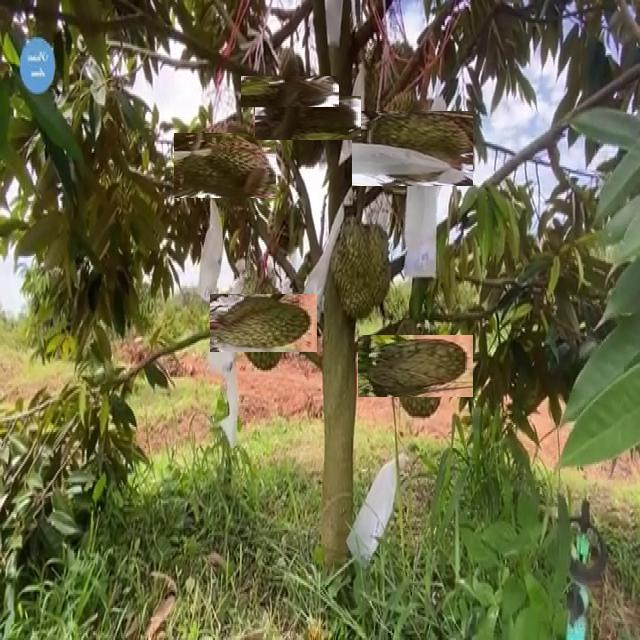durian: (363, 99, 461, 198), (372, 322, 460, 410), (327, 217, 394, 328), (183, 124, 267, 208), (222, 282, 306, 364), (270, 81, 346, 156), (257, 59, 323, 123)
